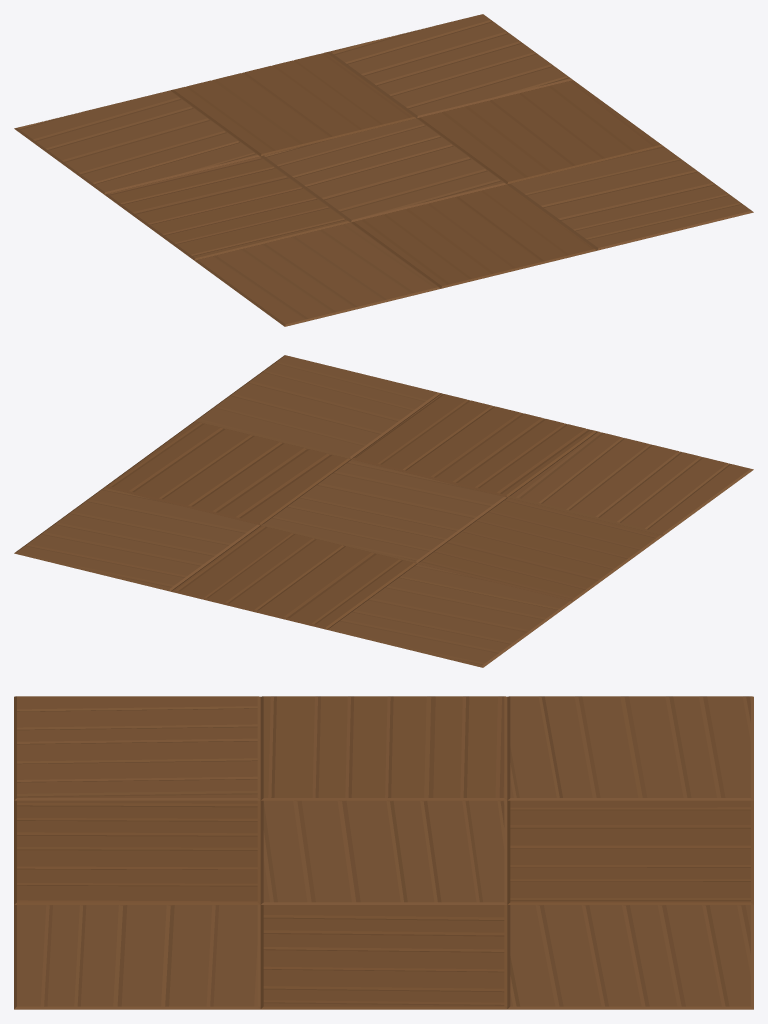
File: Wood_Floor_Module_01_02.glb
The picture shows the model from 3 angles, top to bottom: view 1: azimuth 30°, elevation 25°; view 2: azimuth 150°, elevation 25°; view 3: azimuth 270°, elevation 25°; orthographic projection. The views are drawn at different scales.
Visible parts, largest first — view 1: Wood_Floor_Module_01_02; view 2: Wood_Floor_Module_01_02; view 3: Wood_Floor_Module_01_02.
Boxes of the visible parts, <box> form: Wood_Floor_Module_01_02: <box>14,14,753,326</box>; Wood_Floor_Module_01_02: <box>14,355,753,667</box>; Wood_Floor_Module_01_02: <box>14,696,753,1009</box>.
Bounding box in the file's own units: 4.74 × 0.012 × 4.74.
